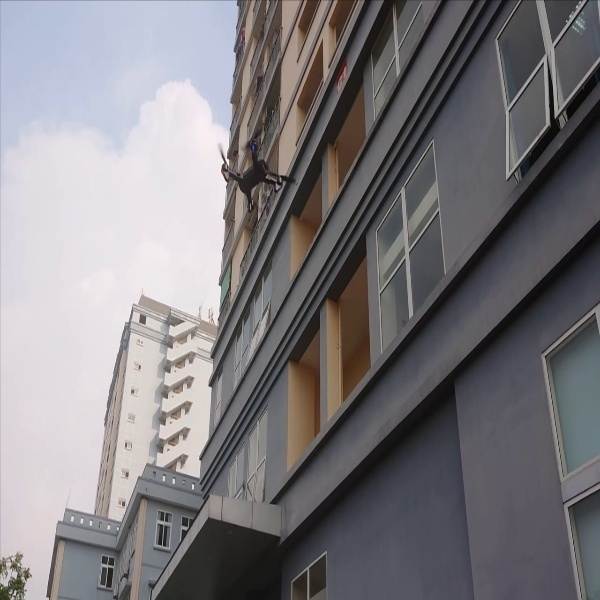drone: (210, 127, 300, 218)
